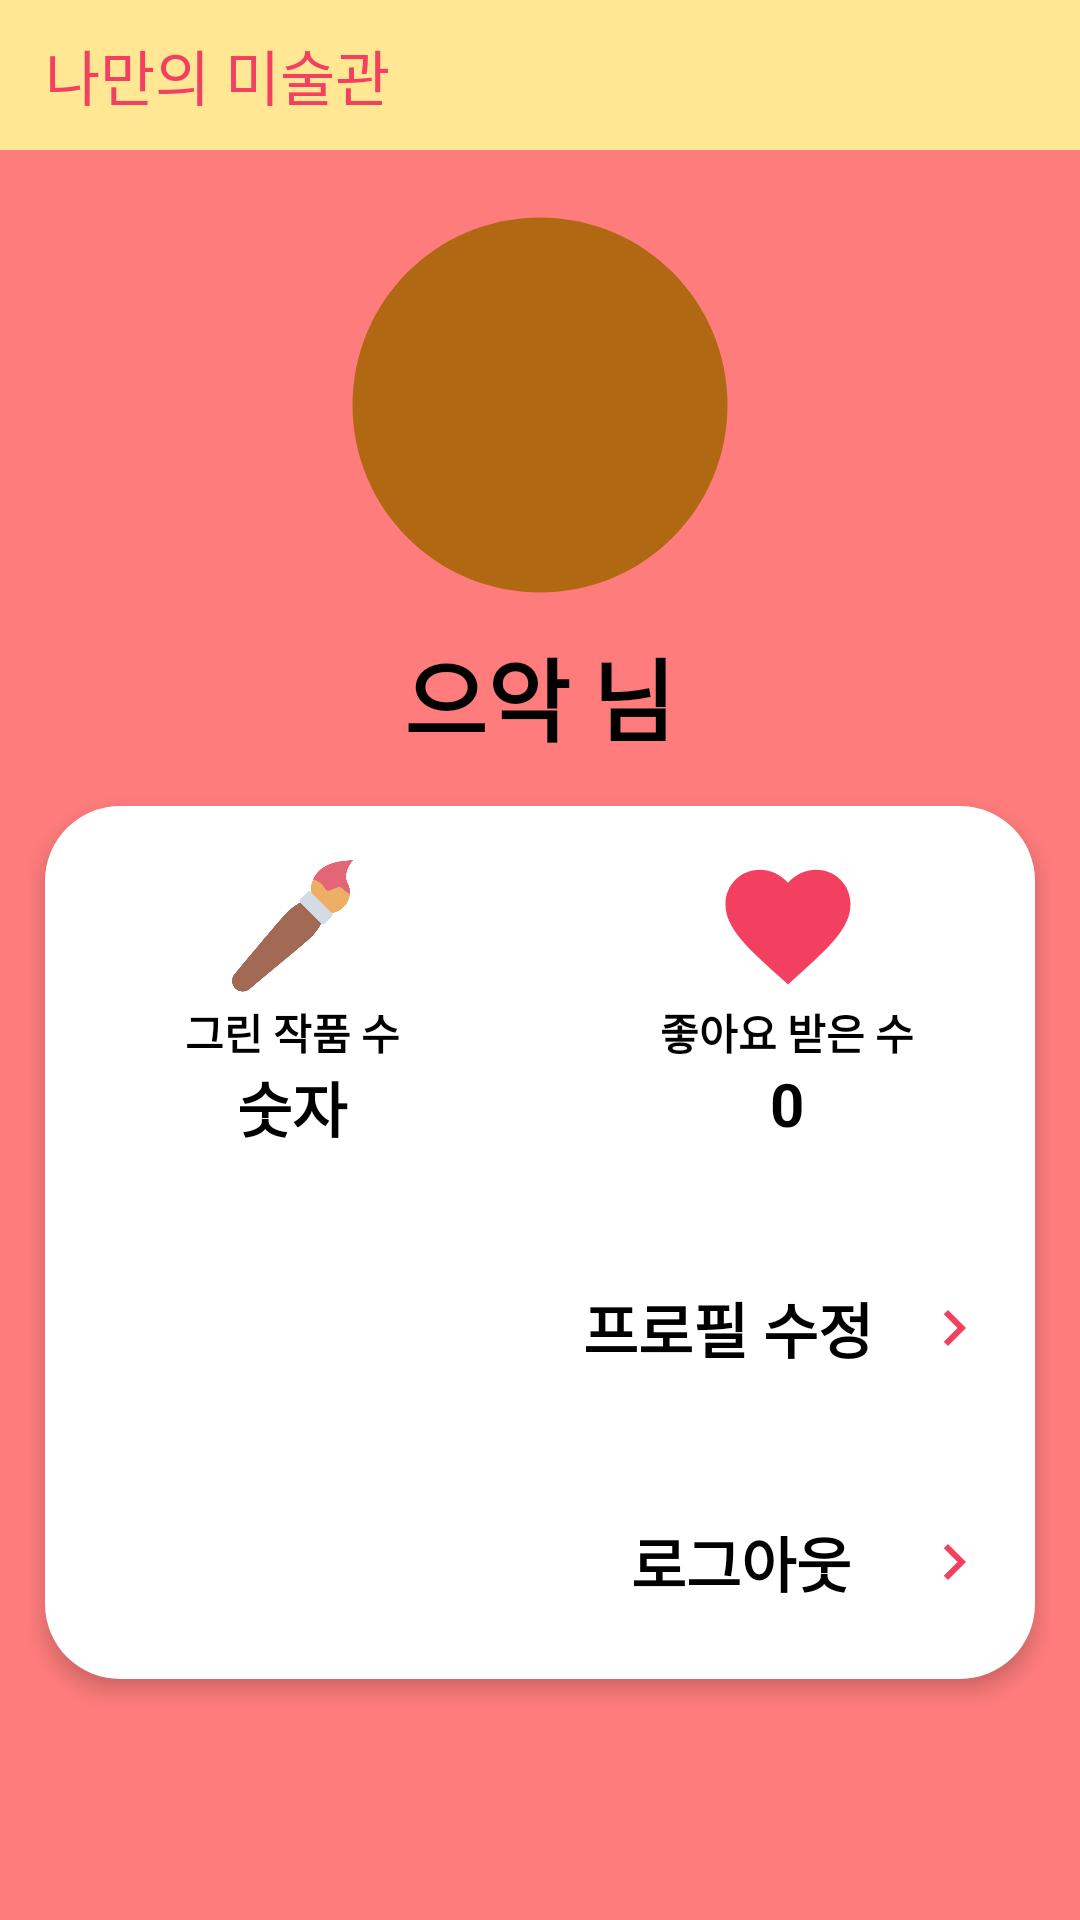

Icon click points for this 1080×1920 phone screenshot, format (x=x, y=y):
brush: (x=292, y=926)
like: (x=788, y=927)
right: (x=955, y=1328), (x=955, y=1562)
